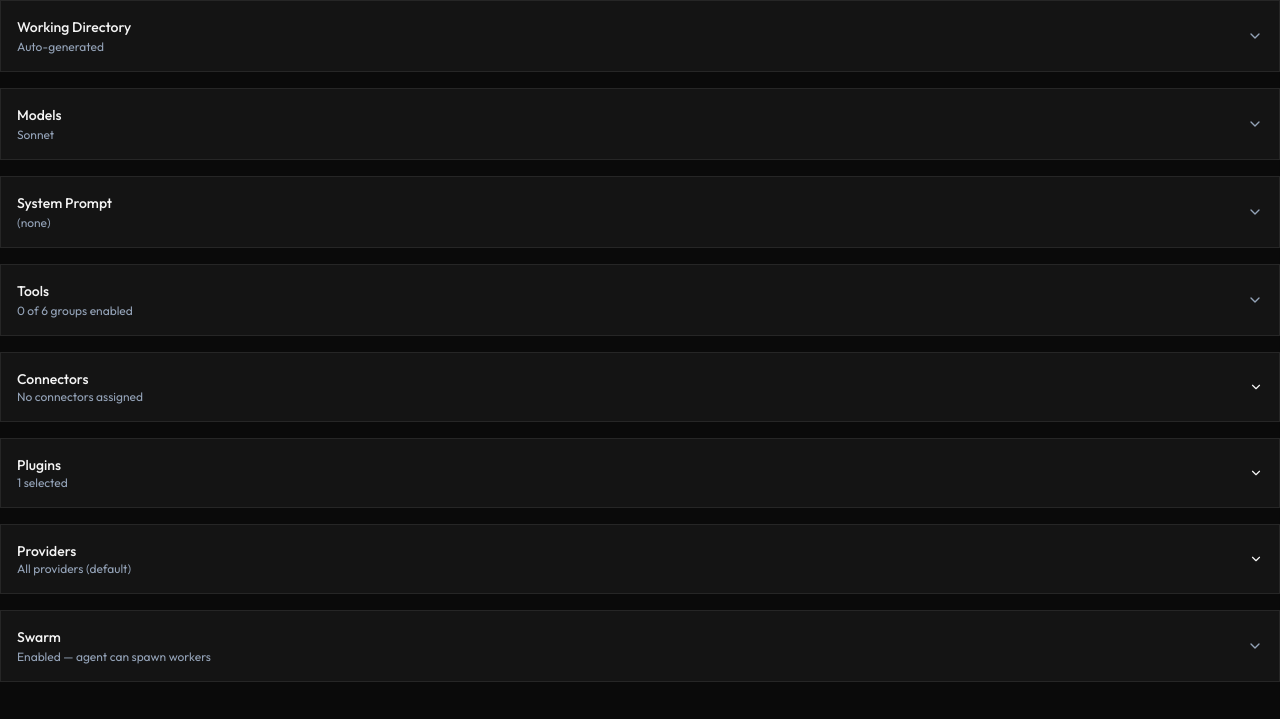
Test case: AgentConfigTab plugins card › keeps an already-assigned plugin visible+removable even if it is not loaded
Click the button "Plugins 1 selected" at (39, 465), box x1=1 y1=439 x2=1279 y2=507
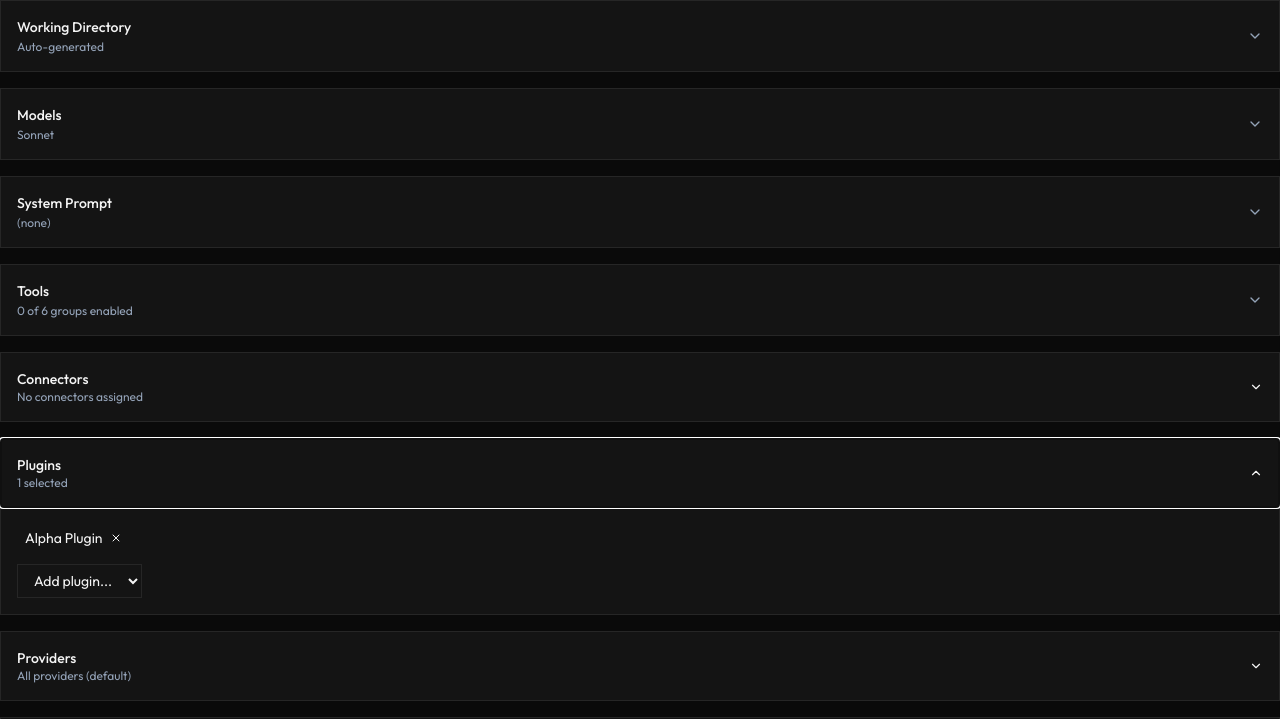
Check: the button named "remove alpha" is shown, box x1=110 y1=532 x2=122 y2=544
